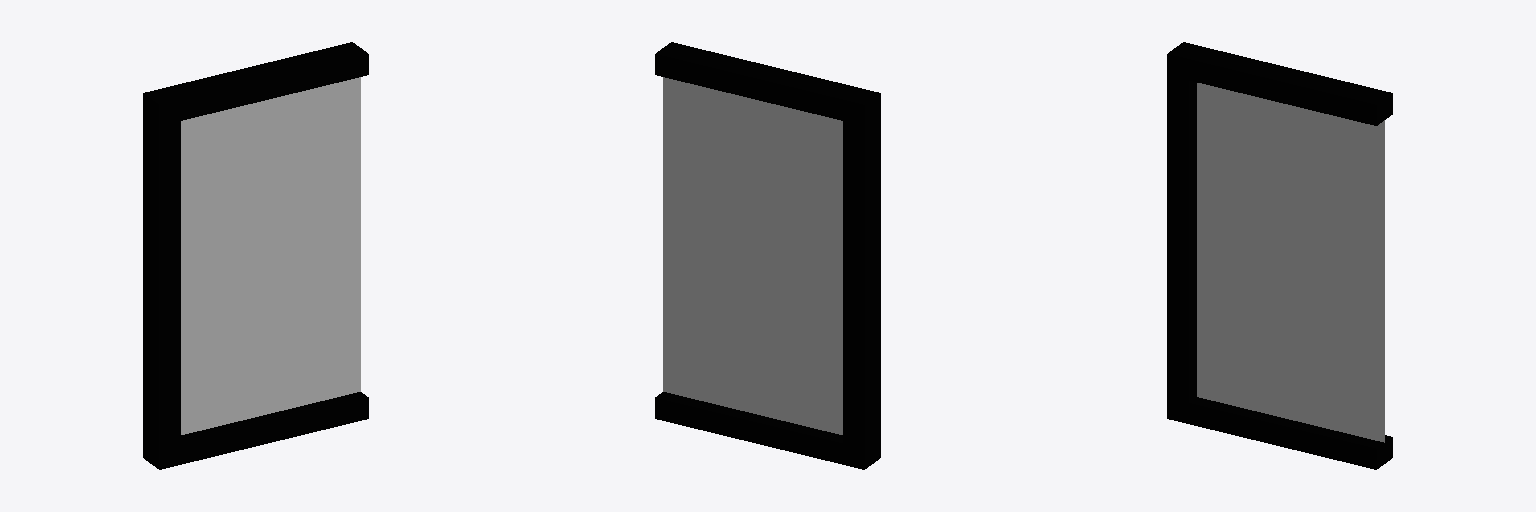
File: bigdoor.obj
The picture shows the model from 3 angles: view 1: azimuth 30°, elevation 25°; view 2: azimuth 150°, elevation 25°; view 3: azimuth 330°, elevation 25°; orthographic projection.
Parts seen in each view (by area): view 1: Cube; view 2: Cube; view 3: Cube.
Boxes of the visible parts, x1=… form: Cube: x1=143, y1=42, x2=368, y2=469; Cube: x1=655, y1=42, x2=880, y2=469; Cube: x1=1167, y1=42, x2=1392, y2=469.
Bounding box in the file's own units: 1.5 × 2.5 × 0.2.